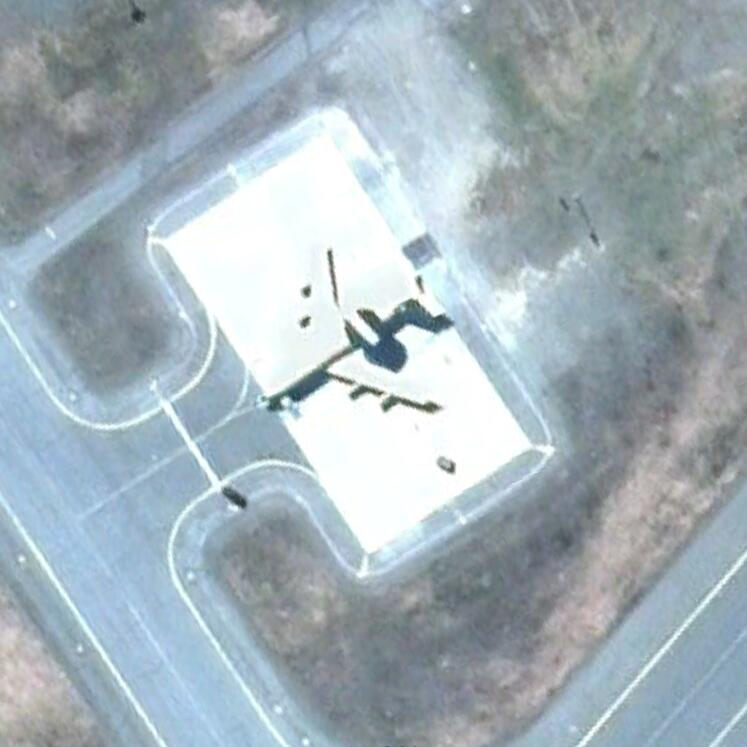A7: (255, 244, 451, 424)
